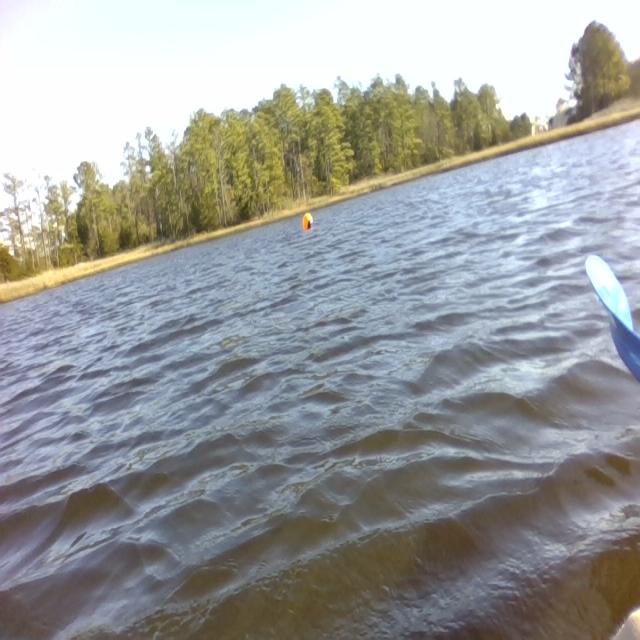Buoy: (297, 206, 324, 240)
